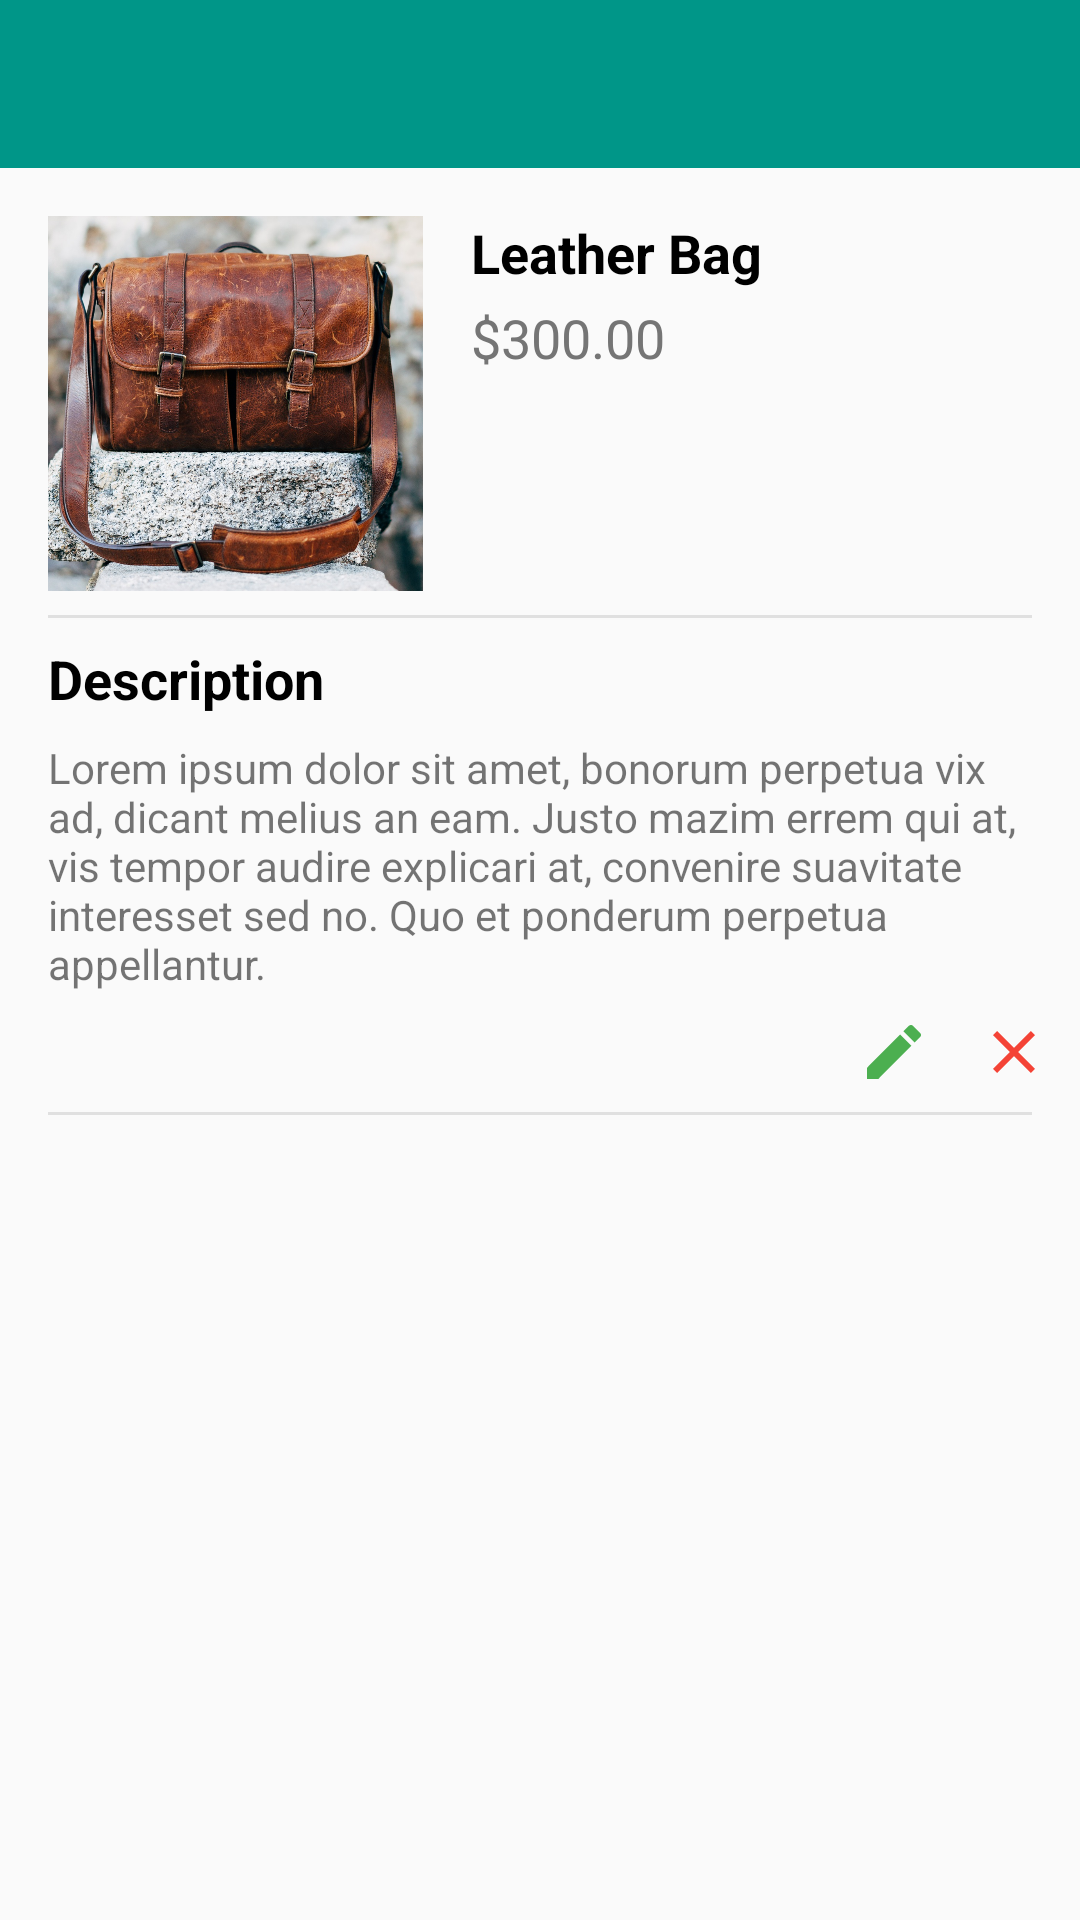

Point at icon controls on the screen. Image size 1080*1920, points as (x=x, y=y).
close: (x=1014, y=1052)
edit: (x=894, y=1052)
